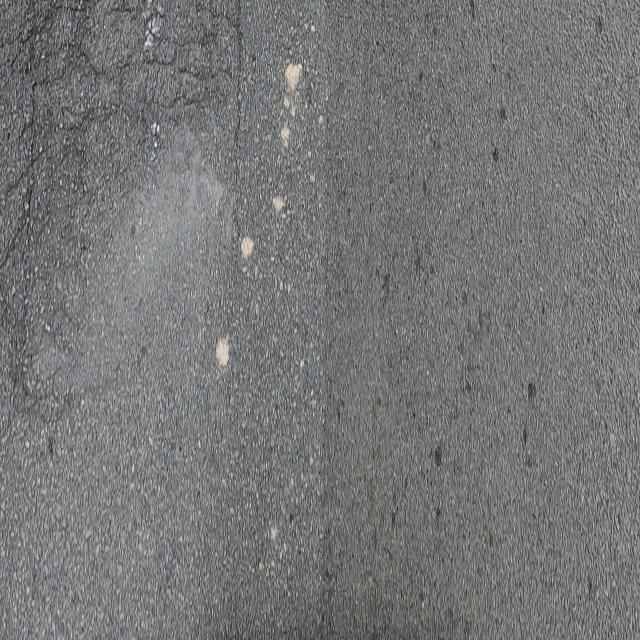Retak-Buaya: (3, 0, 247, 406)
